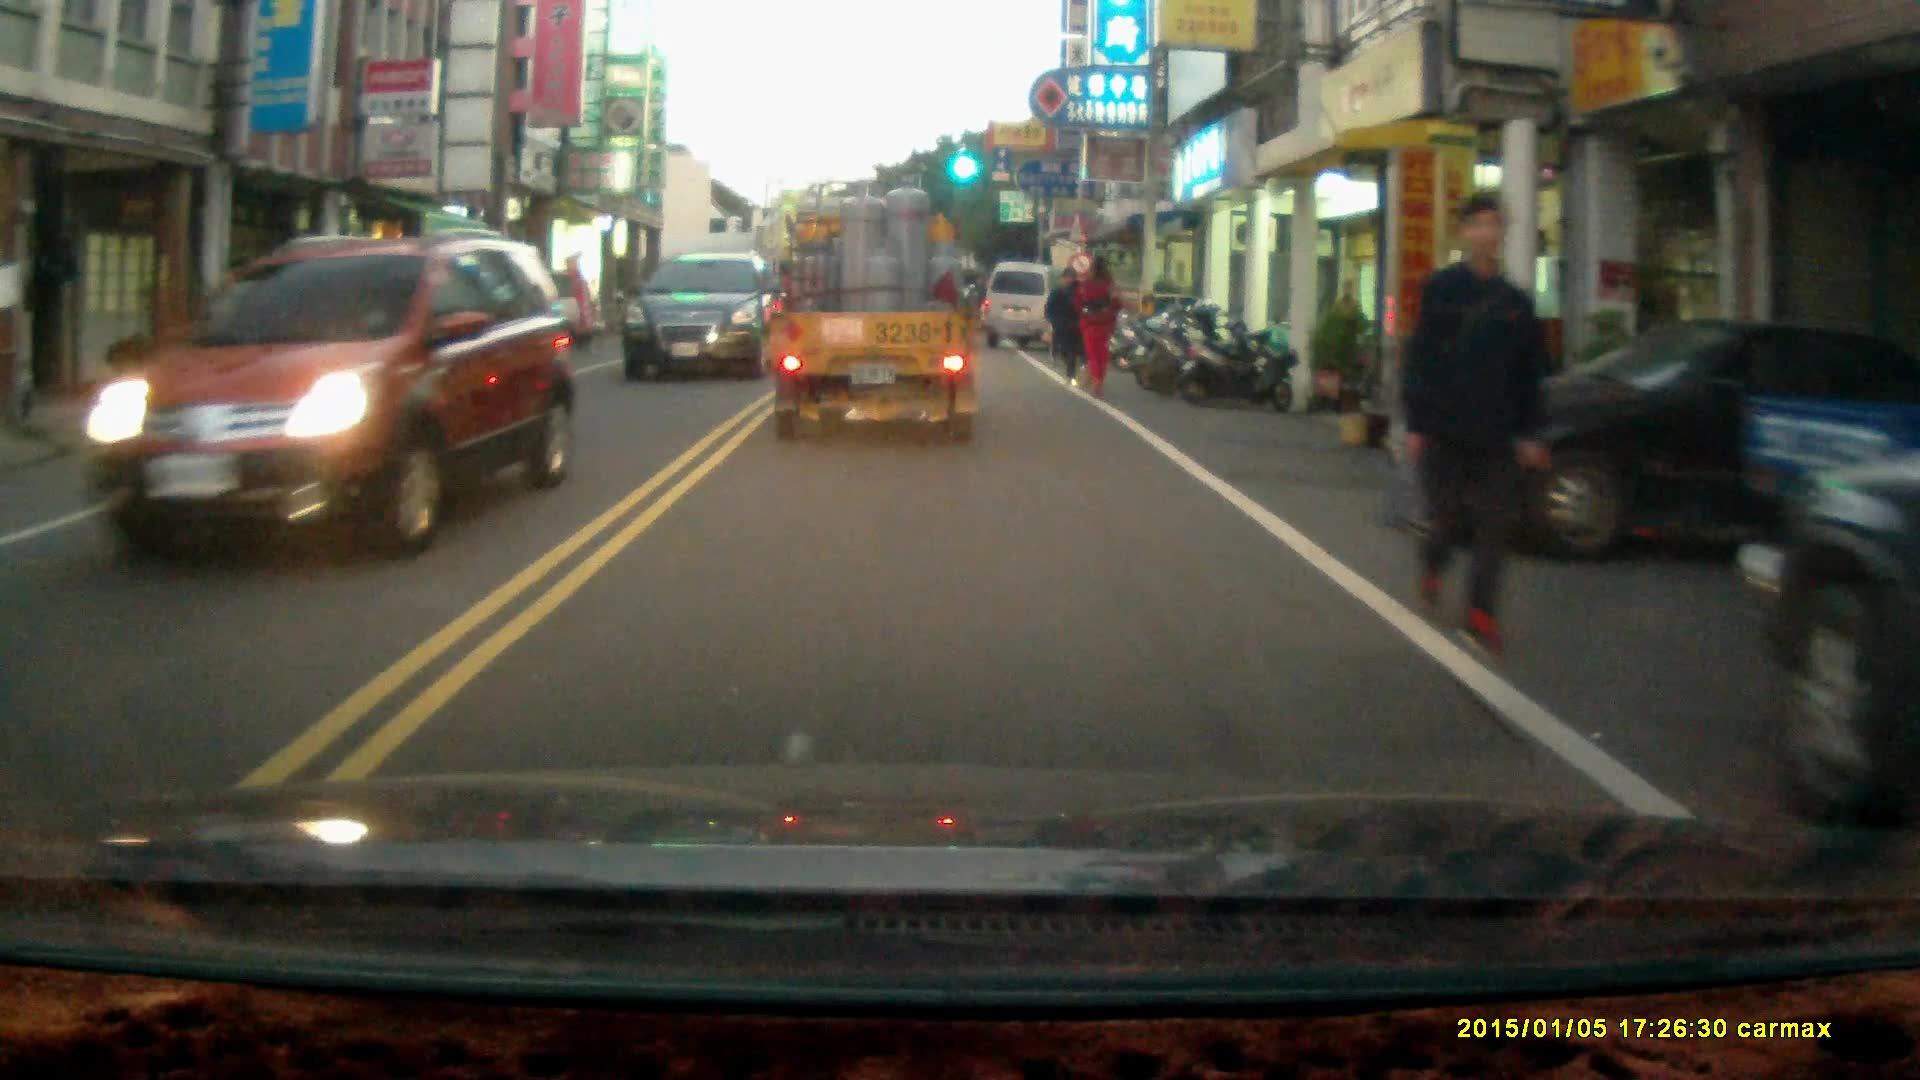pedestrian: (1393, 185, 1549, 657), (1077, 253, 1117, 393), (1053, 267, 1090, 389), (1327, 278, 1360, 366)
vehicle: (105, 229, 558, 576), (1387, 311, 1920, 575), (1755, 451, 1920, 830), (767, 193, 986, 474), (620, 253, 783, 386), (984, 260, 1067, 350)
